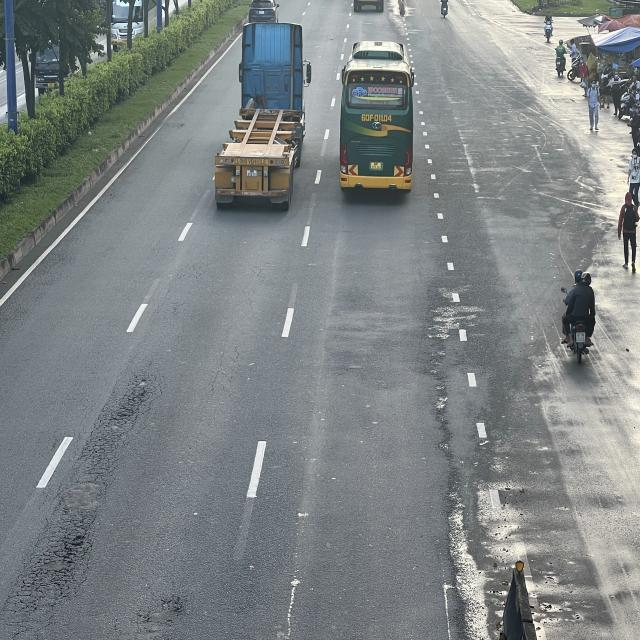coach: (338, 41, 414, 190)
container: (214, 21, 312, 212)
